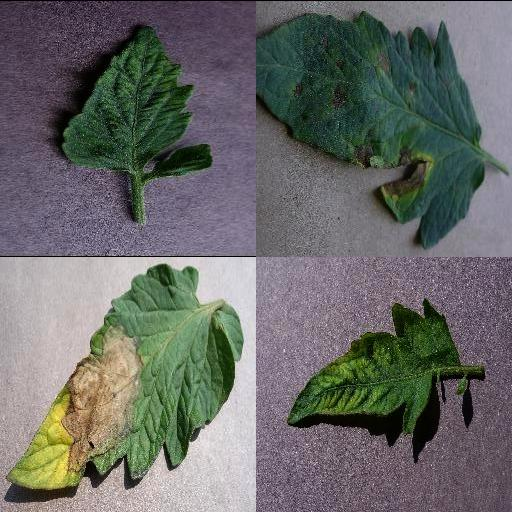Early Blight: (256, 10, 484, 248)
Late Blight: (4, 263, 244, 489)
Mosaic Virus: (284, 296, 462, 436), (60, 24, 216, 176)
